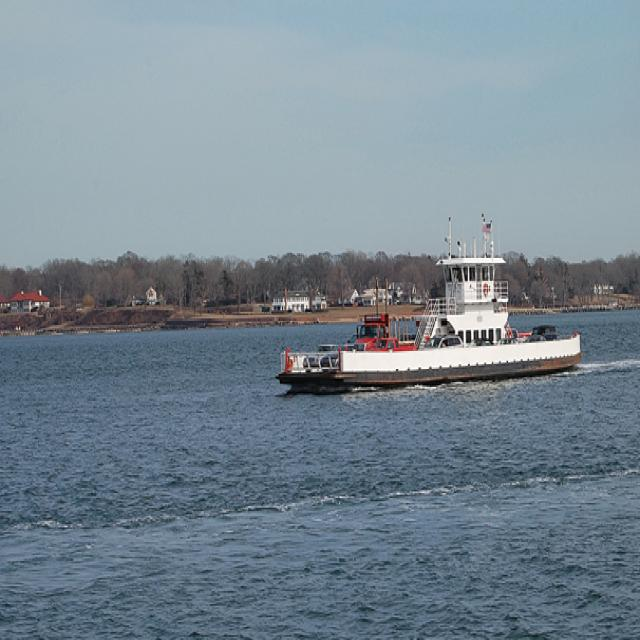cargoship: (267, 242, 588, 388)
